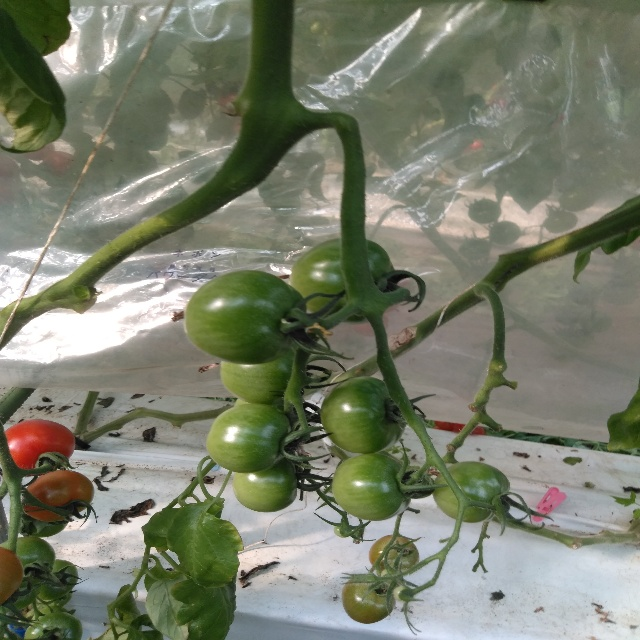l_fully_ripened: (5, 419, 76, 476)
l_green: (184, 270, 309, 365), (289, 236, 397, 325), (320, 376, 409, 453), (206, 404, 291, 473), (331, 452, 413, 521), (430, 460, 511, 524), (220, 352, 304, 404), (233, 454, 297, 513), (1, 536, 56, 590), (341, 575, 396, 624), (36, 559, 79, 601), (24, 611, 82, 640), (17, 510, 70, 537), (1, 581, 41, 613), (393, 585, 416, 601), (380, 568, 402, 584), (334, 525, 350, 538)
l_half_ripened: (22, 469, 95, 522), (368, 534, 419, 577), (0, 546, 24, 606)
